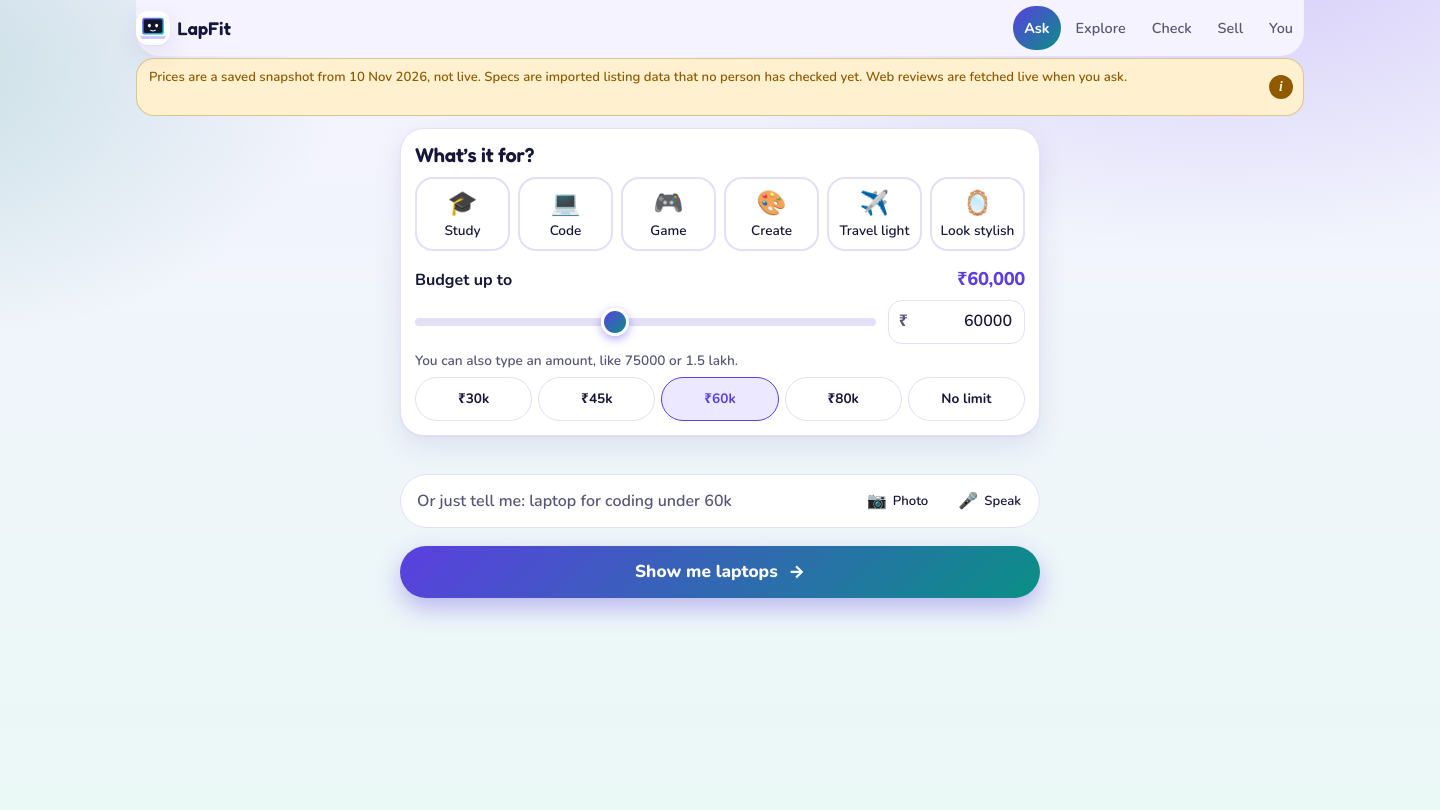
Test: Check layout and the ask_laptop flow › three numbered steps in order, the known-details section BELOW the text box (collapsed until opened), and one primary button
Click the link "Check": (1172, 28) [1152, 18, 1192, 38]
(page scrolled)
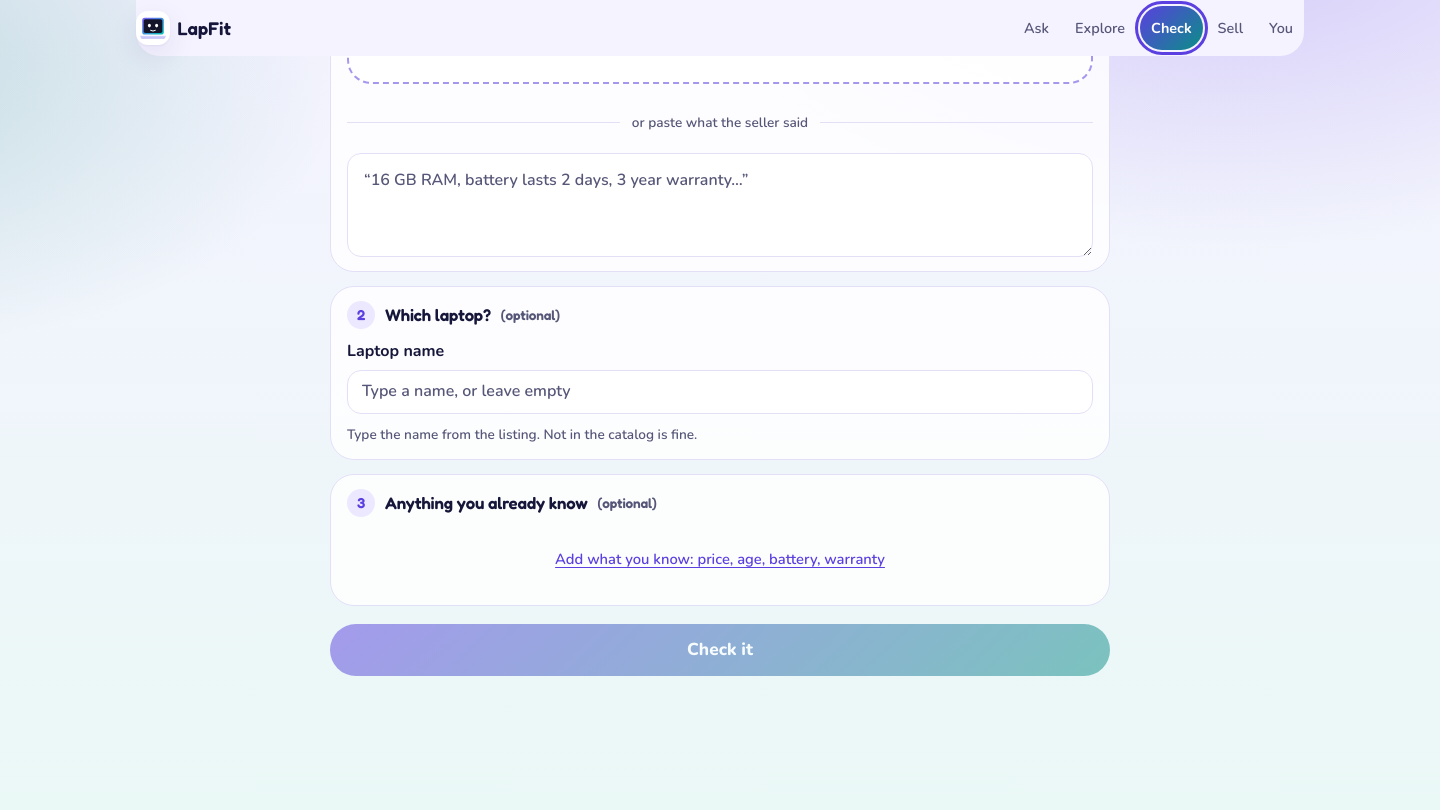
Expected: the field labelled "Asking price" is not shown
Result: the heading "2 Which laptop? (optional)" is shown at [347, 301, 560, 329]
Result: the heading "3 Anything you already know (optional)" is shown at [347, 489, 657, 517]
Click the button "Add what you know: price, age, battery, warranty": (720, 559) [347, 537, 1093, 581]
(page scrolled)
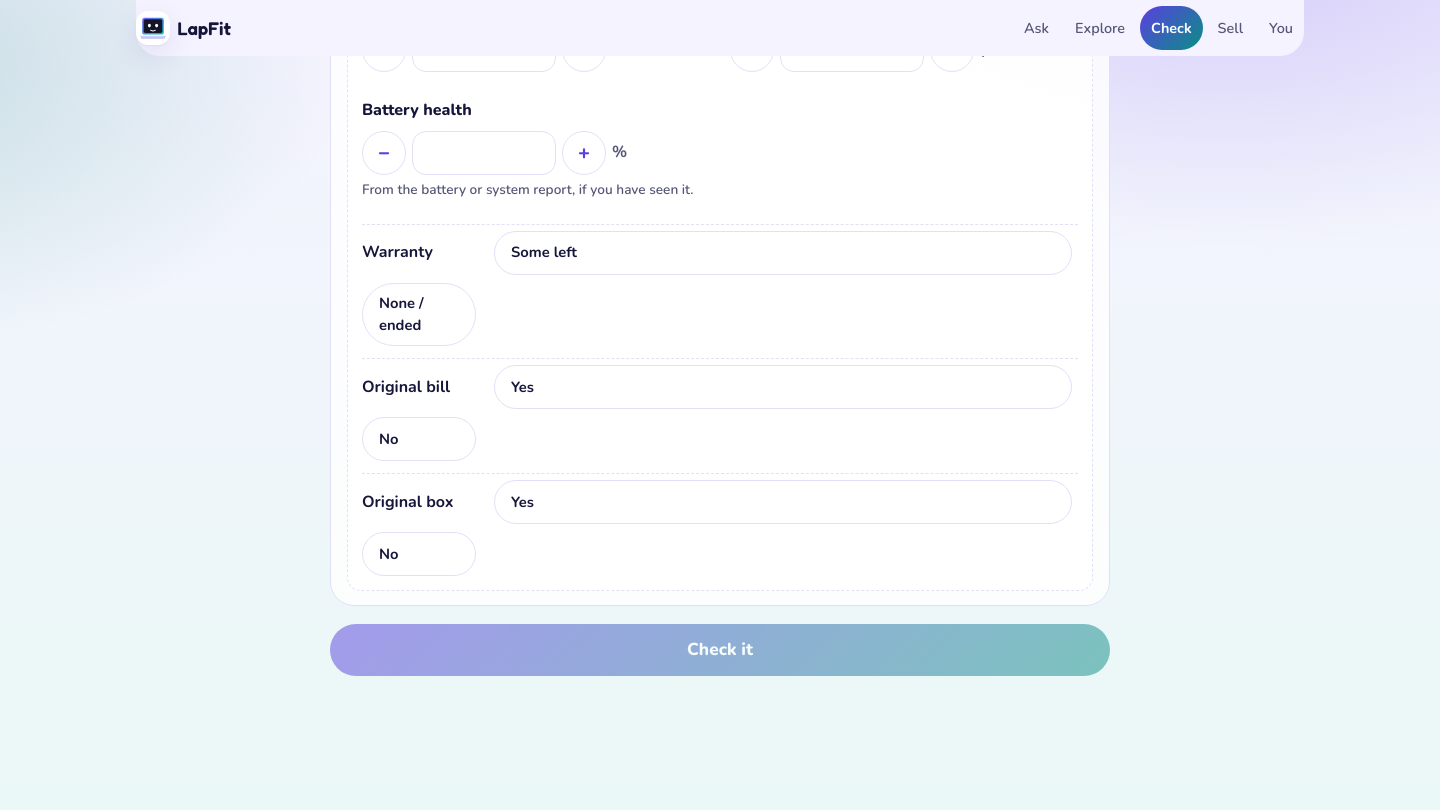
Result: the number field labelled "Age" is shown at [780, 28, 924, 72]
Result: the number field labelled "Battery health" is shown at [412, 131, 556, 175]
Result: the element "Warranty" is shown at [362, 224, 1078, 346]
